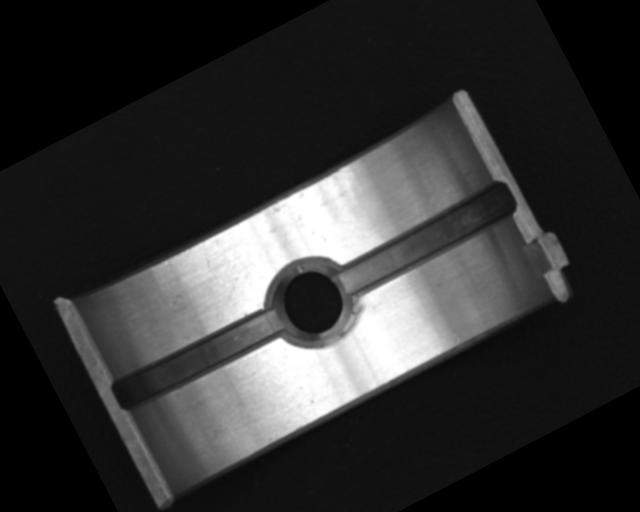gap: (331, 175, 522, 303), (108, 299, 288, 416)
hole: (251, 240, 373, 366)
